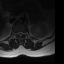CCS_normal: (19, 30, 21, 37)
LFS_stenosis: (23, 30, 24, 35)
LLS_normal: (21, 30, 23, 37)
RFS_stenosis: (15, 31, 17, 36)
RLS_normal: (17, 30, 19, 36)
